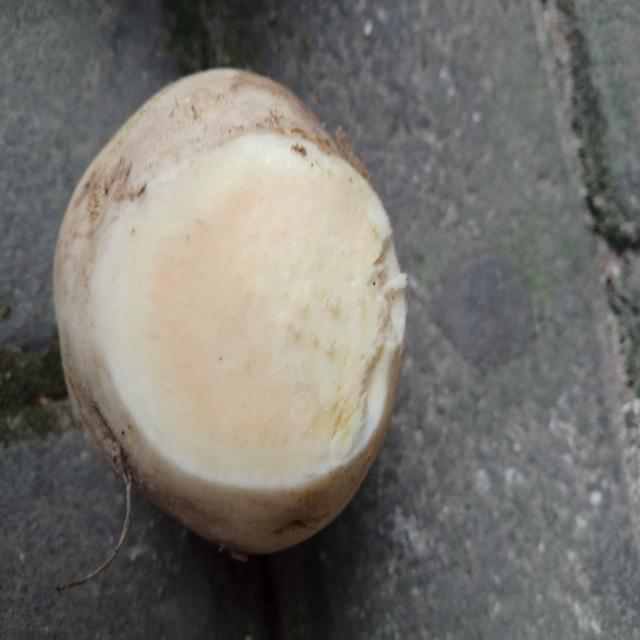Healthy Sweet Potato: (92, 133, 405, 488)
